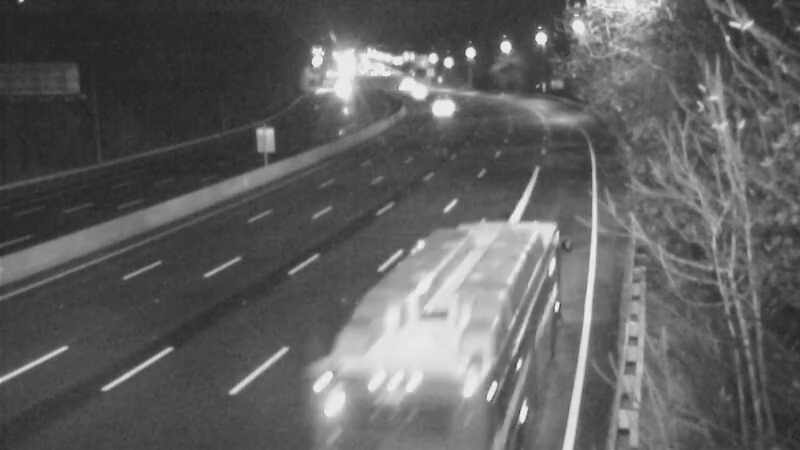vehicle: (383, 292, 493, 402), (394, 69, 444, 119), (413, 82, 463, 132)
